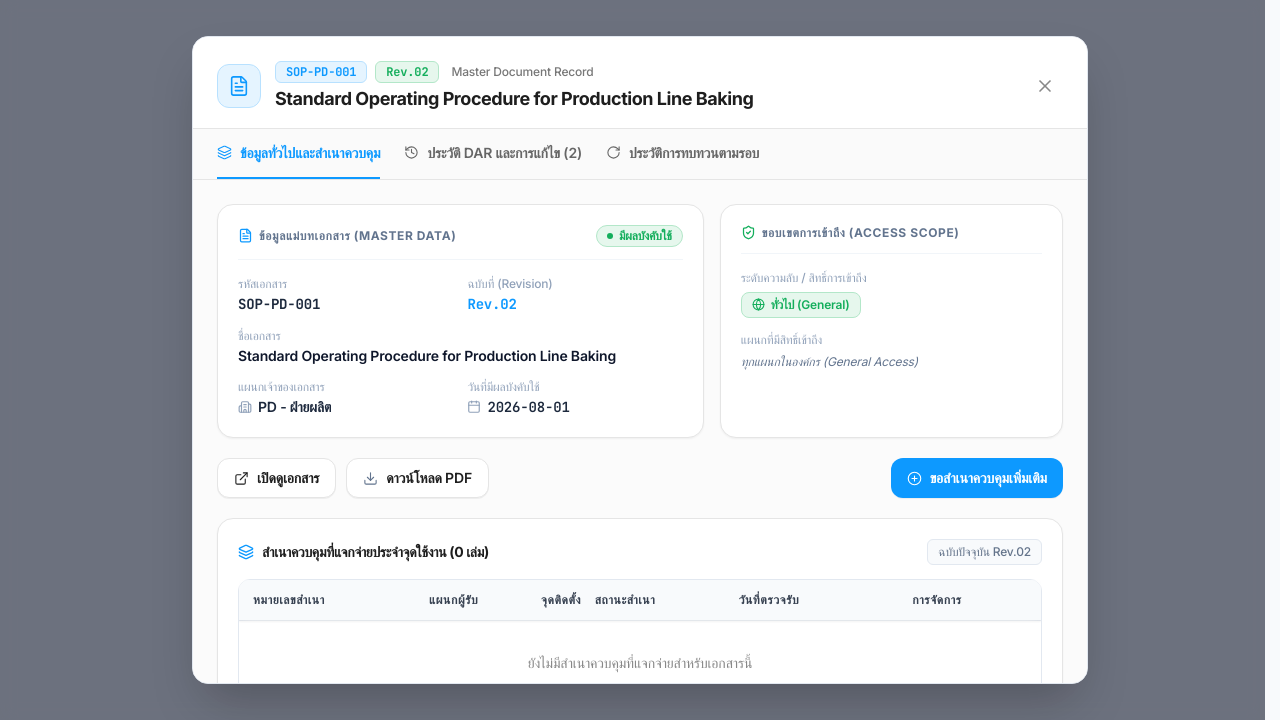
Test: UI Guardrails, Library Segmentation & DAR Audit History Tests › 4. DAR Audit History Timeline Tab in DocumentDetailModal › renders DAR history timeline tab with cumulative audit trail and sign-offs
Click the button "ประวัติ DAR และการแก้ไข (2)": [493, 154] box [404,129,582,179]
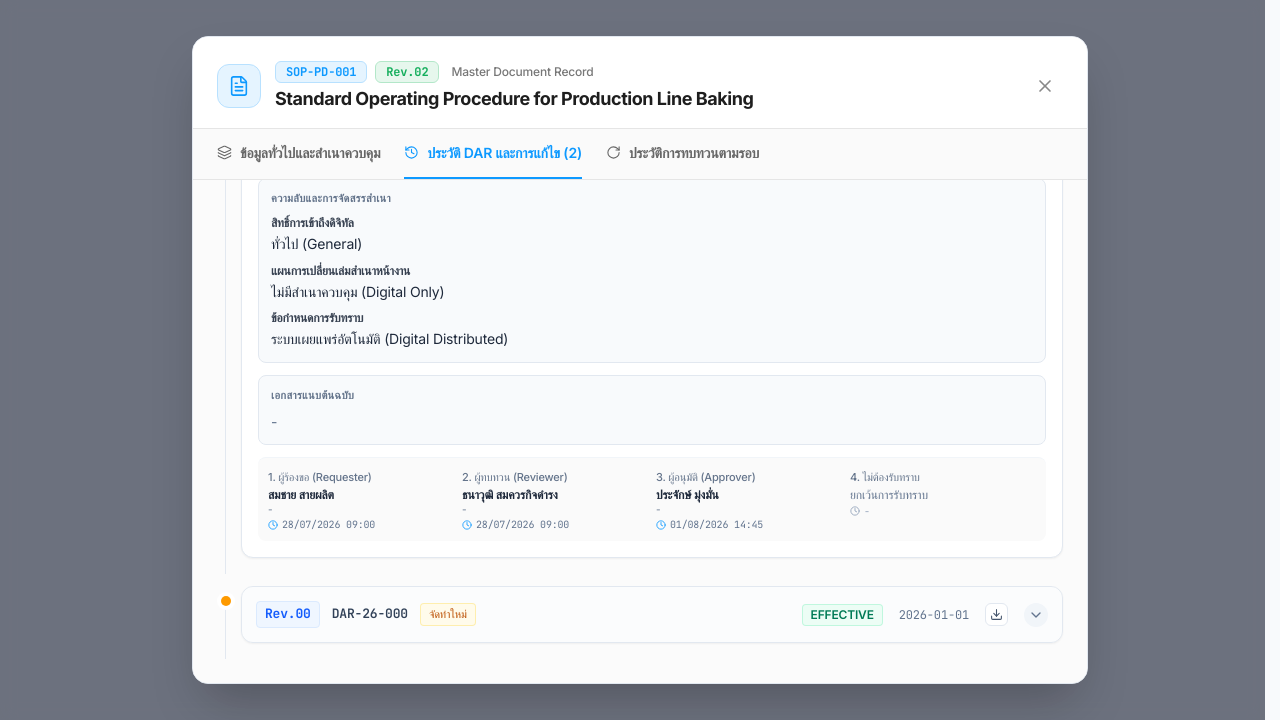
Now the text "DAR-26-000" is shown, box [332,604,408,625]
Now the text "สมชาย สายผลิต" is shown, box [268,486,334,502]
Now the text "ธนาวุฒิ สมควรกิจดำรง" is shown, box [462,486,558,502]
